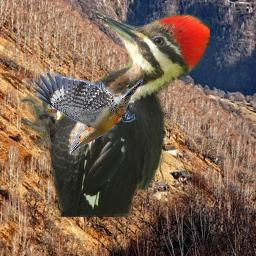Woodpecker: (21, 10, 210, 217), (29, 71, 143, 156)
